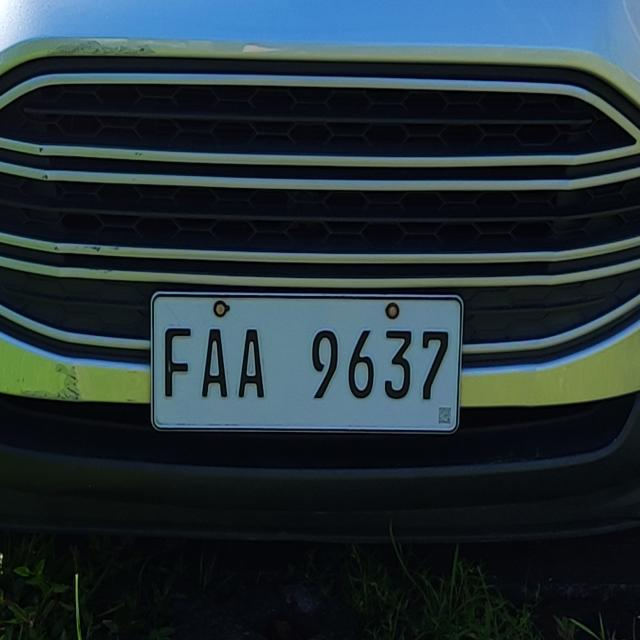plate: (144, 283, 468, 440)
